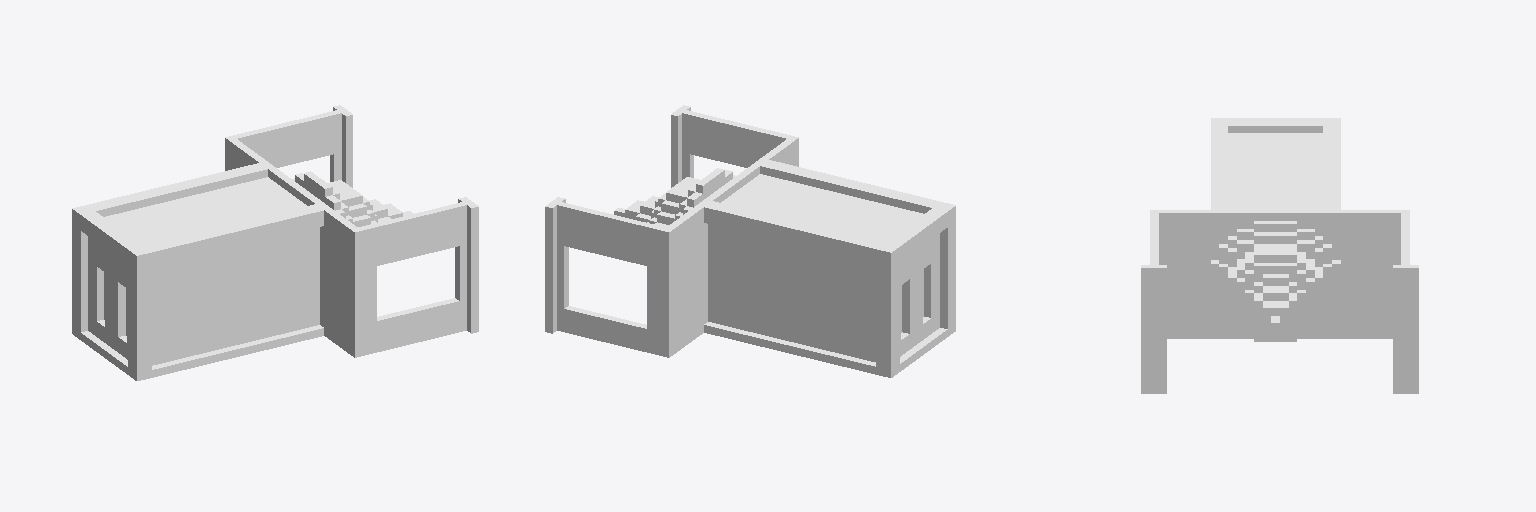
The model's file is boer.obj.
3 views of the same model, side by side, from view 1: azimuth 30°, elevation 25°; view 2: azimuth 150°, elevation 25°; view 3: azimuth 270°, elevation 25° (orthographic).
Parts seen in each view (by area): view 1: object 1; view 2: object 1; view 3: object 1.
Boxes of the visible parts, x1=… form: object 1: x1=72, y1=105, x2=478, y2=380; object 1: x1=545, y1=105, x2=955, y2=377; object 1: x1=1141, y1=118, x2=1418, y2=393.
Size of the model in its own units: 4.1 by 1.6 by 3.2.